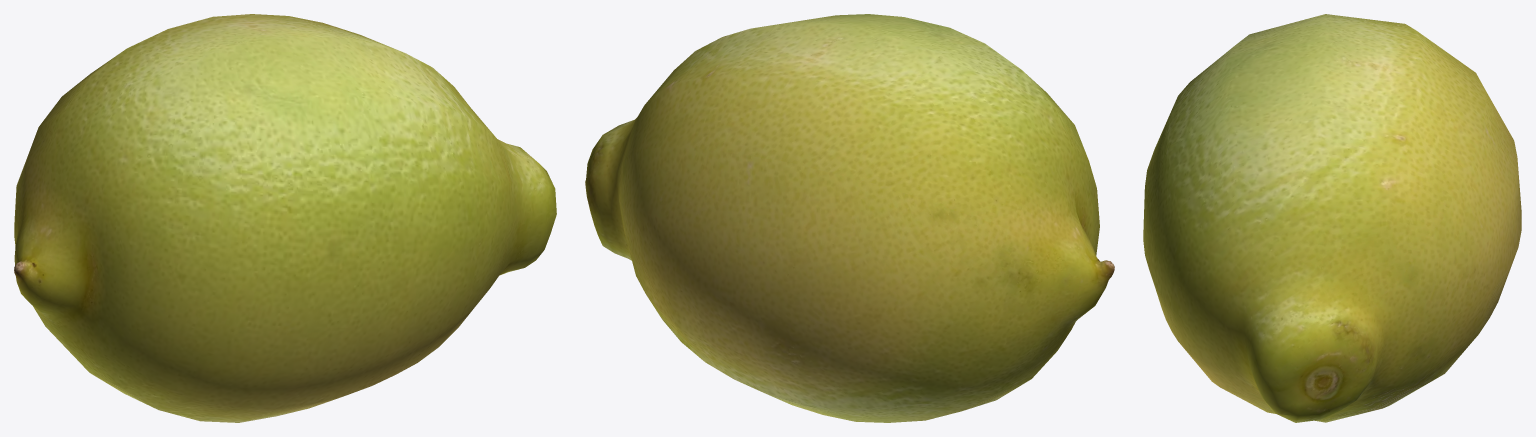
Rendered from lime-2.glb.
The picture shows the model from 3 angles, left to right: view 1: azimuth 30°, elevation 25°; view 2: azimuth 150°, elevation 25°; view 3: azimuth 270°, elevation 25°; orthographic projection. The views are drawn at different scales.
Visible parts, largest first — view 1: Lemon_Lemon PBR_0; view 2: Lemon_Lemon PBR_0; view 3: Lemon_Lemon PBR_0.
Part boxes in pixels (bbox=[...]): Lemon_Lemon PBR_0: bbox=[14, 14, 556, 422]; Lemon_Lemon PBR_0: bbox=[585, 14, 1114, 422]; Lemon_Lemon PBR_0: bbox=[1143, 14, 1521, 422].
Bounding box in the file's own units: 0.0956 × 0.0634 × 0.0638.
1 material, 1 textured.
